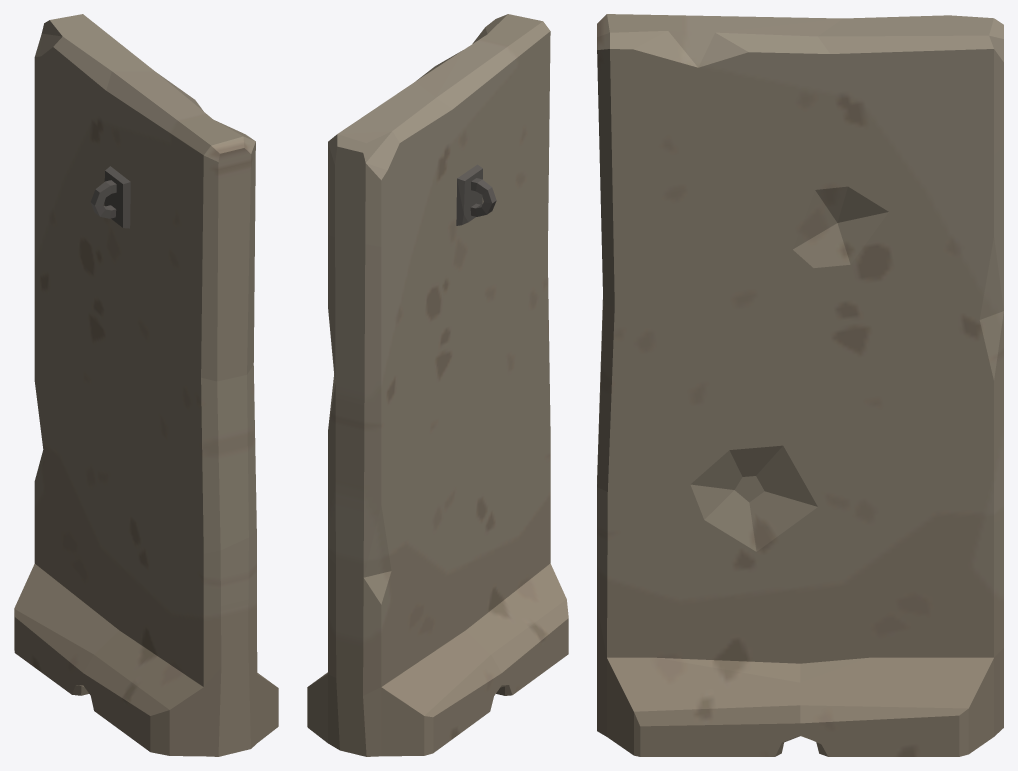
File: SM_Prop_Barrier_Tall_03.glb
The picture shows the model from 3 angles, left to right: view 1: azimuth 30°, elevation 25°; view 2: azimuth 150°, elevation 25°; view 3: azimuth 270°, elevation 25°; orthographic projection. The views are drawn at different scales.
Parts seen in each view (by area): view 1: SM_Prop_Barrier_Tall_03; view 2: SM_Prop_Barrier_Tall_03; view 3: SM_Prop_Barrier_Tall_03.
Part boxes in pixels (x1=…): SM_Prop_Barrier_Tall_03: x1=14, y1=14, x2=278, y2=756; SM_Prop_Barrier_Tall_03: x1=307, y1=14, x2=568, y2=756; SM_Prop_Barrier_Tall_03: x1=597, y1=14, x2=1003, y2=756.
Size of the model in its own units: 0.7003 by 3.26 by 1.72.
Materials: 1 (1 with a texture image).
